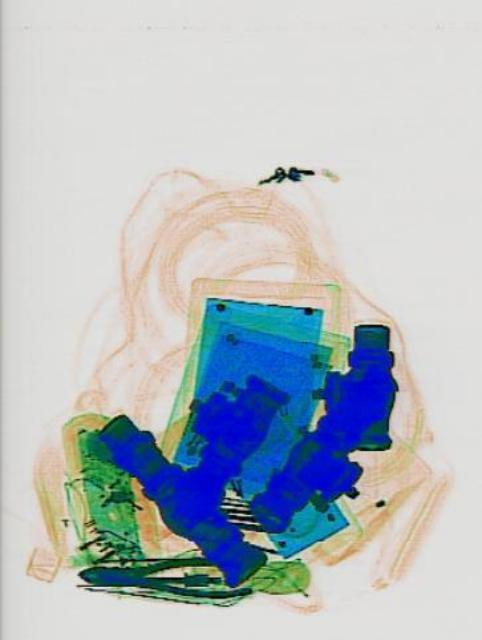Pliers: (75, 552, 249, 596)
